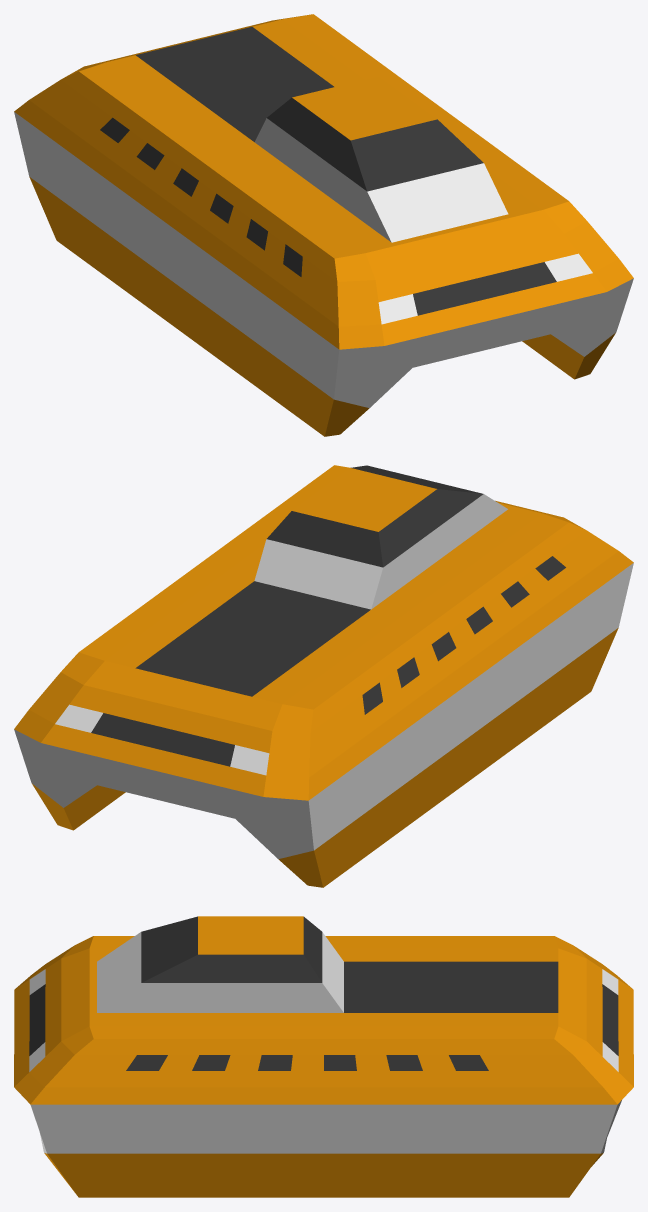
Rendered from highspeed.glb.
3 views of the same model, one above another, from view 1: azimuth 30°, elevation 25°; view 2: azimuth 150°, elevation 25°; view 3: azimuth 270°, elevation 25° (orthographic). The views are drawn at different scales.
Parts seen in each view (by area): view 1: Cube; view 2: Cube; view 3: Cube.
Boxes of the visible parts, x1,y1,x2,y2 form: Cube: (14,14,633,436); Cube: (14,465,633,887); Cube: (14,916,633,1197).
Bounding box in the file's own units: 12.93 × 9.61 × 26.2.
